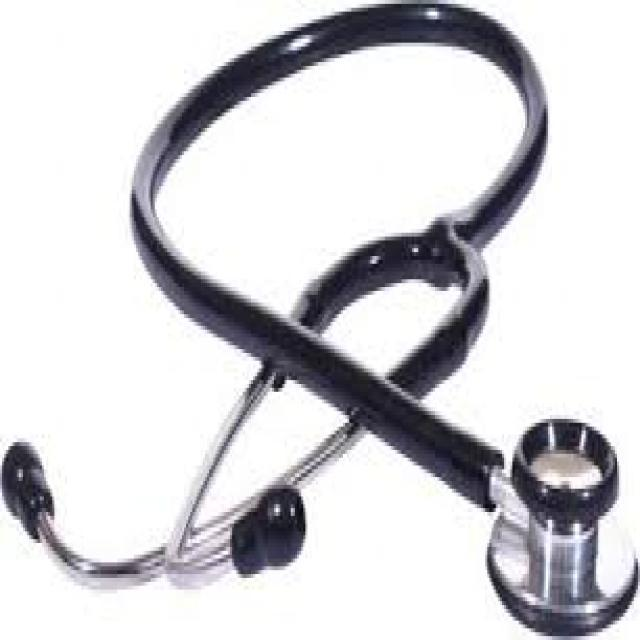stethoscope: (56, 16, 638, 604)
